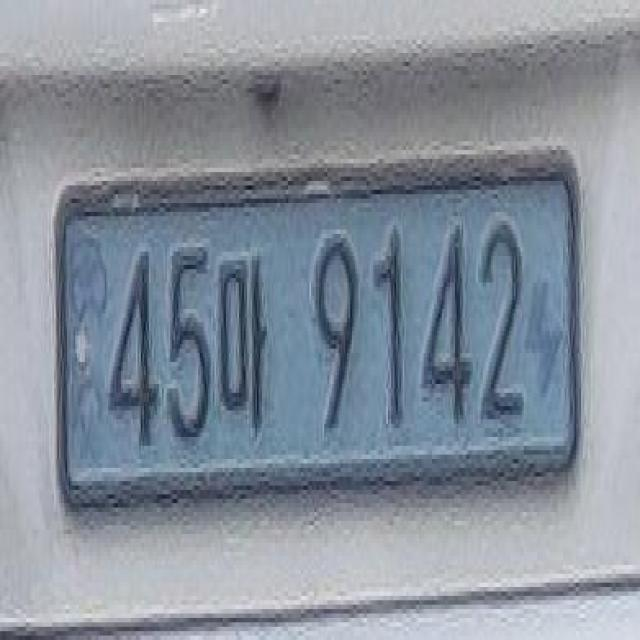EV_plate: (53, 143, 591, 533)
